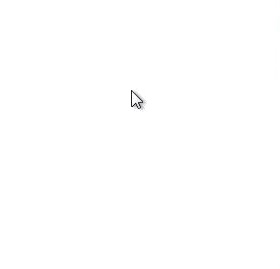cursor: (130, 89, 144, 110)
